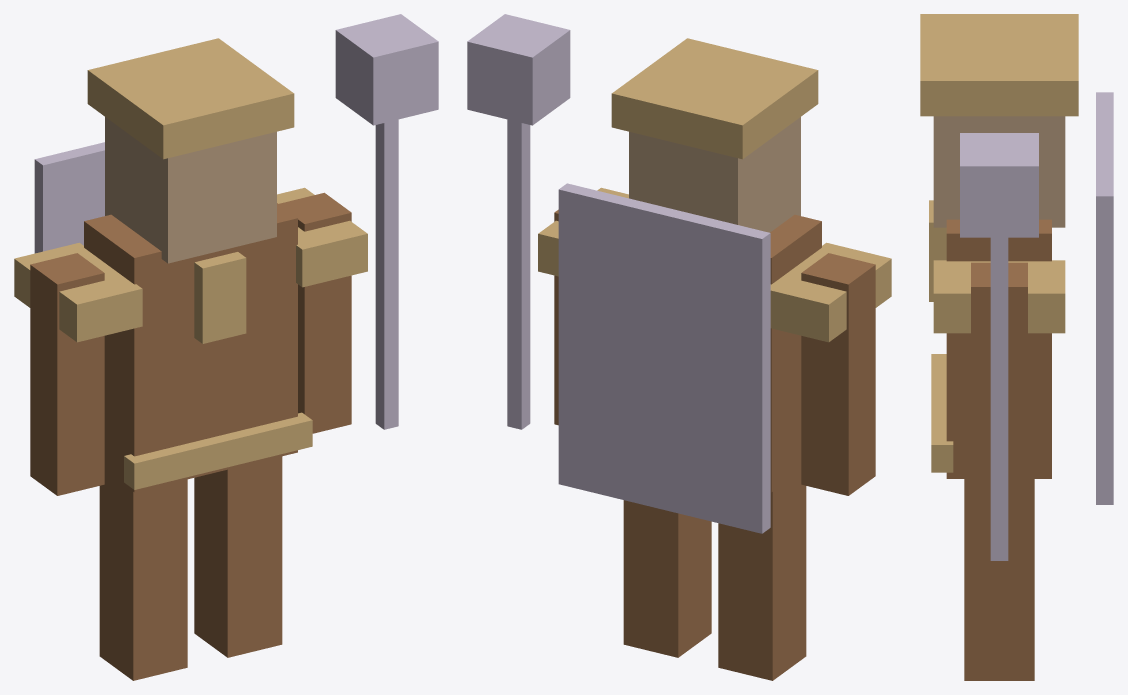
The model's file is 06_draven_trenchmark_cartographer_from_verse.glb.
The picture shows the model from 3 angles, left to right: view 1: azimuth 30°, elevation 25°; view 2: azimuth 150°, elevation 25°; view 3: azimuth 270°, elevation 25°; orthographic projection. The views are drawn at different scales.
Visible parts, largest first — view 1: Draven Trenchmark, Cartographer from Verse; view 2: Draven Trenchmark, Cartographer from Verse; view 3: Draven Trenchmark, Cartographer from Verse.
Boxes of the visible parts, x1,y1,x2,y2 form: Draven Trenchmark, Cartographer from Verse: (14,14,438,680); Draven Trenchmark, Cartographer from Verse: (467,14,891,680); Draven Trenchmark, Cartographer from Verse: (920,14,1113,680).
Bounding box in the file's own units: 0.959 × 1.39 × 0.4077.
